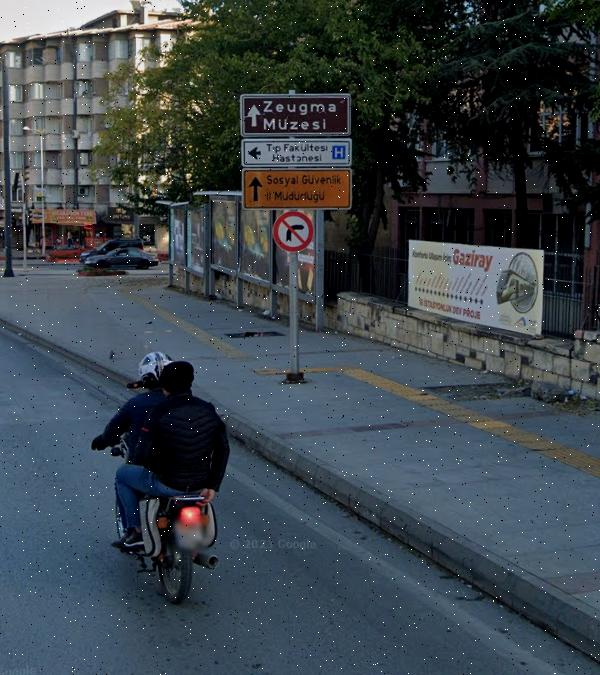rightturnsareforbidden: (275, 213, 313, 248)
